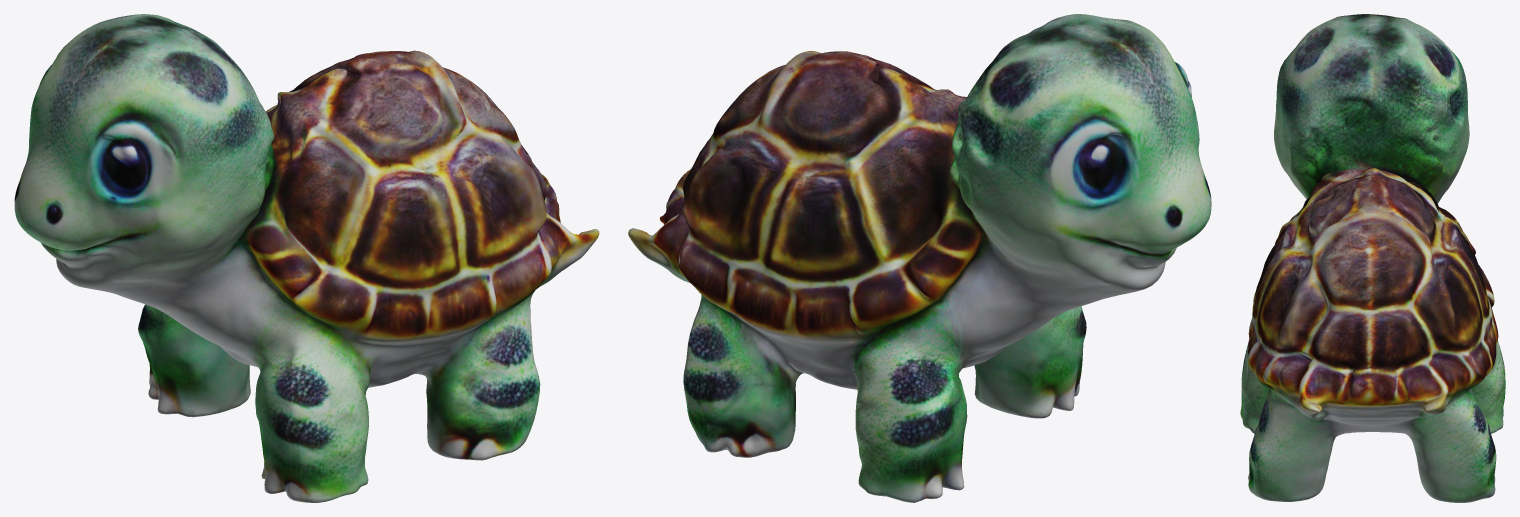
The model's file is Turtle.fbx.
3 renders of one model, left to right at view 1: azimuth 30°, elevation 25°; view 2: azimuth 150°, elevation 25°; view 3: azimuth 270°, elevation 25°, orthographic. The views are drawn at different scales.
Visible parts, largest first — view 1: high_poly; view 2: high_poly; view 3: high_poly.
Part boxes in pixels (x1=…): high_poly: x1=14, y1=14, x2=599, y2=502; high_poly: x1=628, y1=14, x2=1211, y2=502; high_poly: x1=1240, y1=14, x2=1505, y2=502.
Bounding box in the file's own units: 100 × 78.31 × 52.98.
